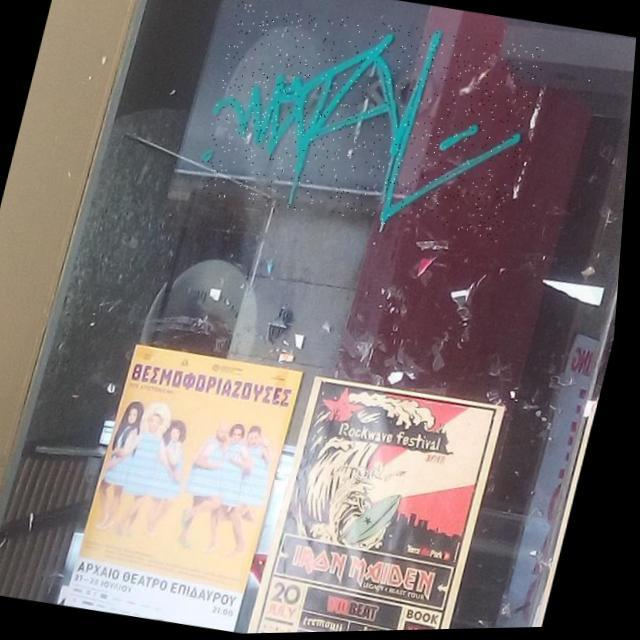-: (191, 0, 550, 249)
